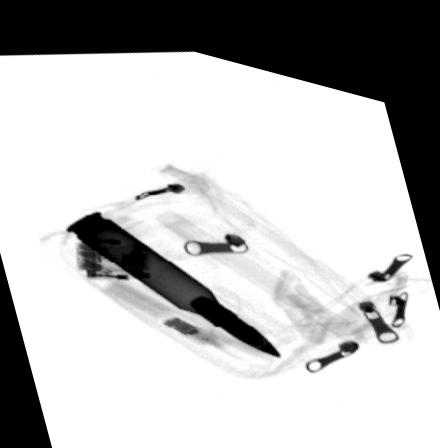Bullet: (62, 204, 283, 344)
